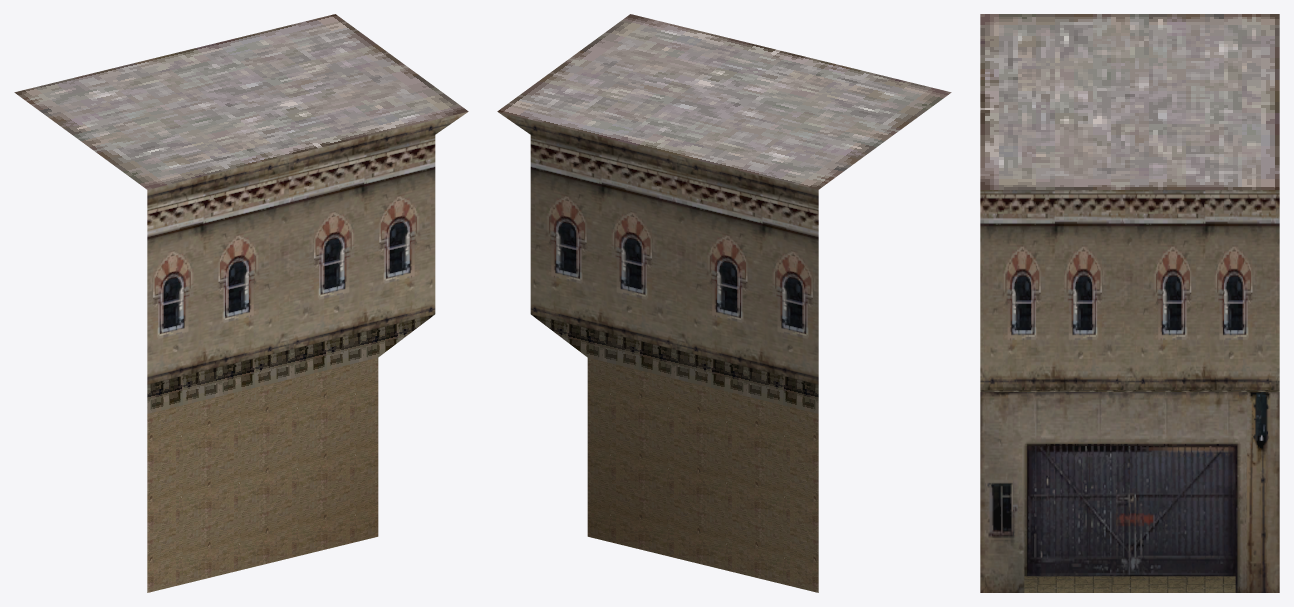
File: M2Zone1_Shop1.glb
3 renders of one model, left to right at view 1: azimuth 30°, elevation 25°; view 2: azimuth 150°, elevation 25°; view 3: azimuth 270°, elevation 25°, orthographic. The views are drawn at different scales.
Visible parts, largest first — view 1: M2ZONE1_SHOP1; view 2: M2ZONE1_SHOP1; view 3: M2ZONE1_SHOP1.
Boxes of the visible parts, left/top/right/bottom form: M2ZONE1_SHOP1: left=14, top=14, right=468, bottom=592; M2ZONE1_SHOP1: left=497, top=14, right=951, bottom=592; M2ZONE1_SHOP1: left=980, top=14, right=1279, bottom=592.
Size of the model in its own units: 11.13 by 13.34 by 8.
6 materials, 6 textured.
